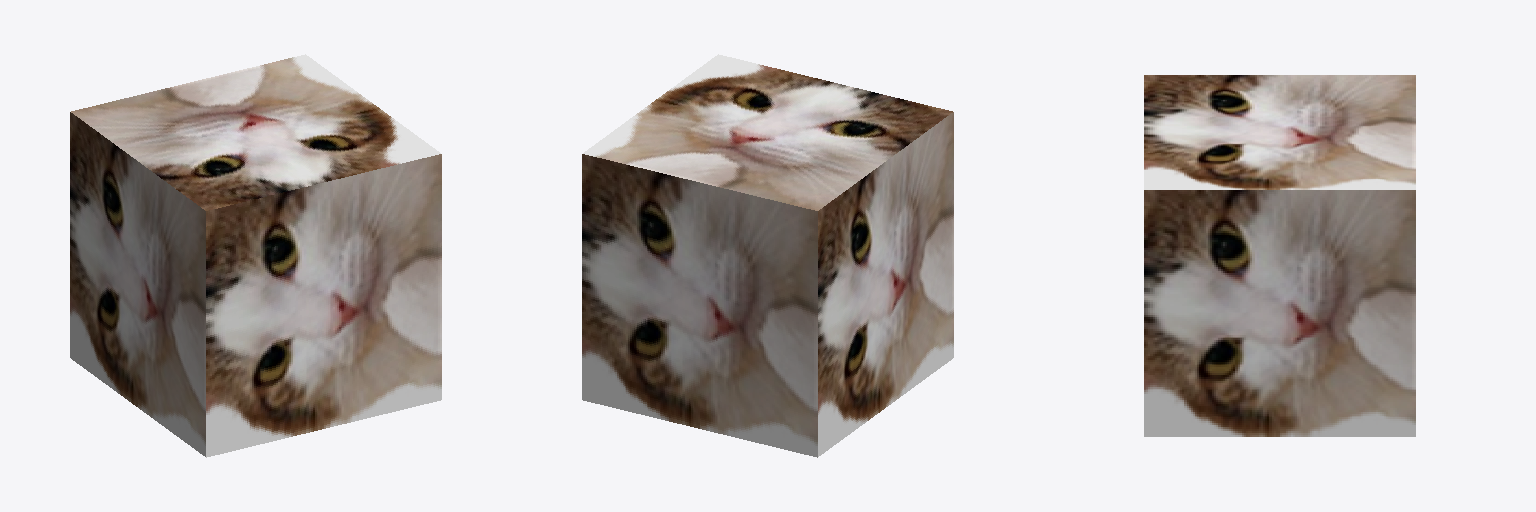
The picture shows the model from 3 angles: view 1: azimuth 30°, elevation 25°; view 2: azimuth 150°, elevation 25°; view 3: azimuth 270°, elevation 25°; orthographic projection.
Visible parts, largest first — view 1: Cube; view 2: Cube; view 3: Cube.
Part boxes in pixels (x1,y1,x2,y2): Cube: (70, 54, 441, 457); Cube: (582, 54, 953, 457); Cube: (1144, 75, 1415, 436).
Size of the model in its own units: 2 by 2 by 2.
1 materials, 1 textured.